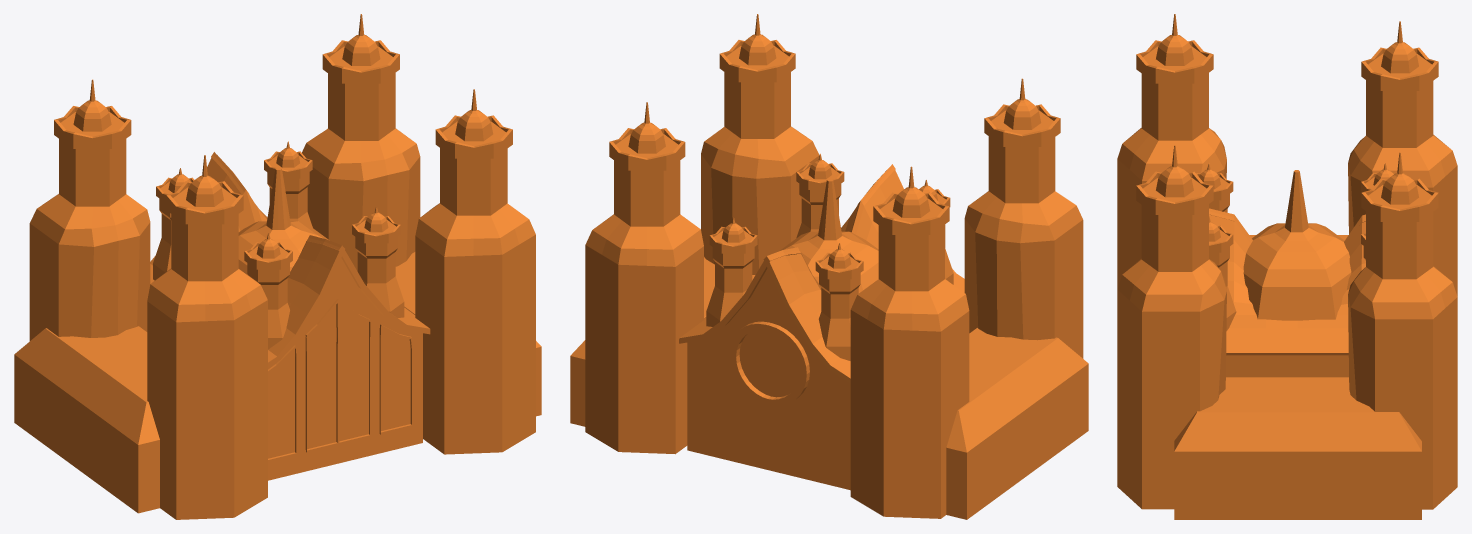
File: CityFour.fbx
The picture shows the model from 3 angles, left to right: view 1: azimuth 30°, elevation 25°; view 2: azimuth 150°, elevation 25°; view 3: azimuth 270°, elevation 25°; orthographic projection.
Visible parts, largest first — view 1: City; view 2: City; view 3: City.
Boxes of the visible parts, x1,y1,x2,y2 form: City: [14, 14, 541, 519]; City: [570, 14, 1088, 519]; City: [1117, 14, 1457, 519].
Bounding box in the file's own units: 44.34 × 36.04 × 32.38.
